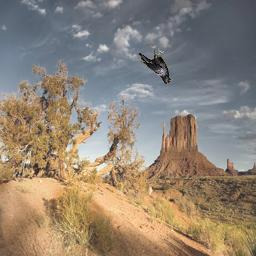Crow: (139, 45, 173, 85)
